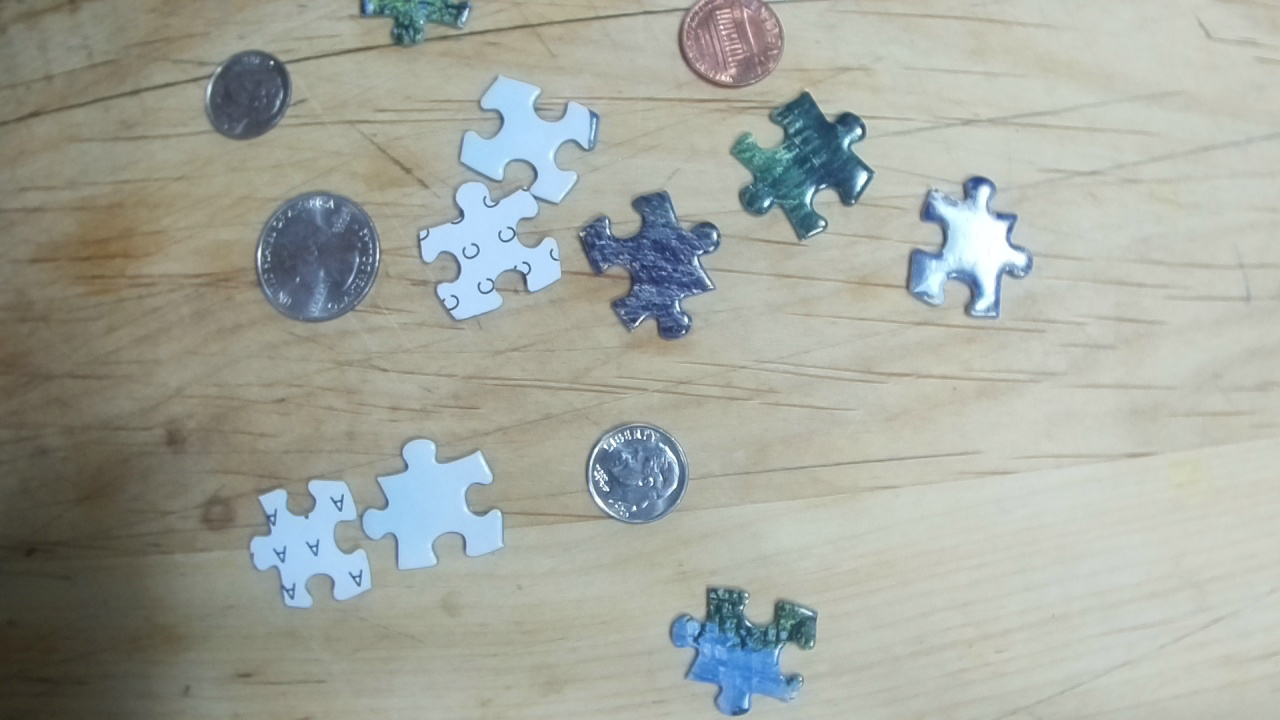dime: (584, 417, 690, 525), (205, 46, 289, 142)
penny: (675, 0, 789, 87)
quarter: (253, 190, 381, 322)
